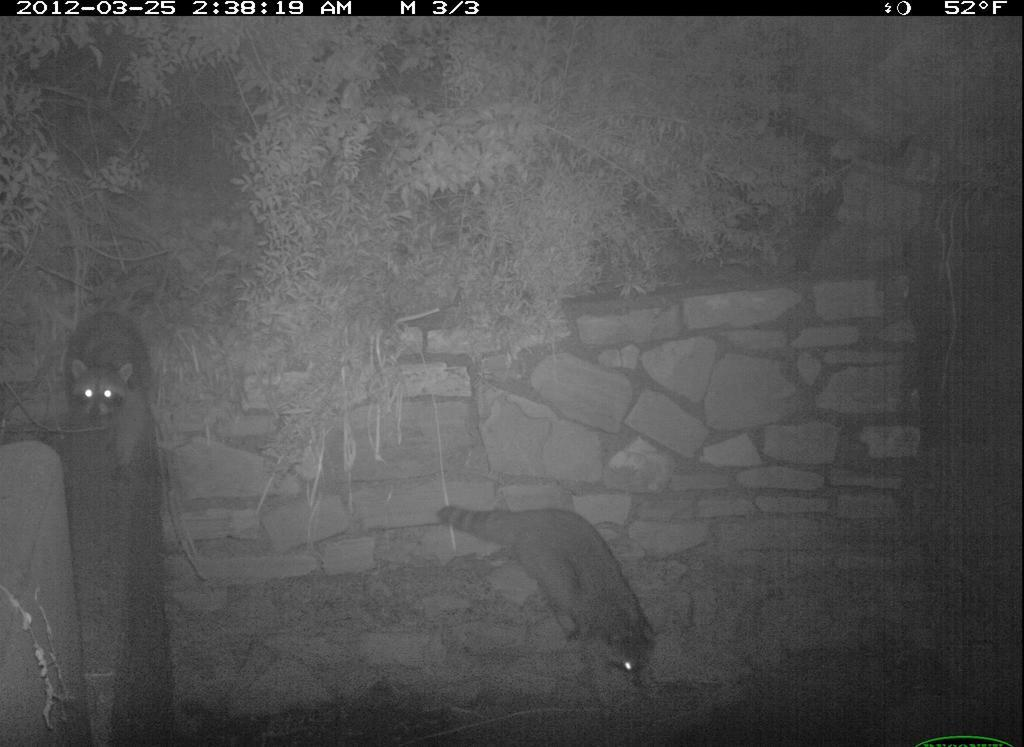raccoon: (431, 492, 678, 725)
